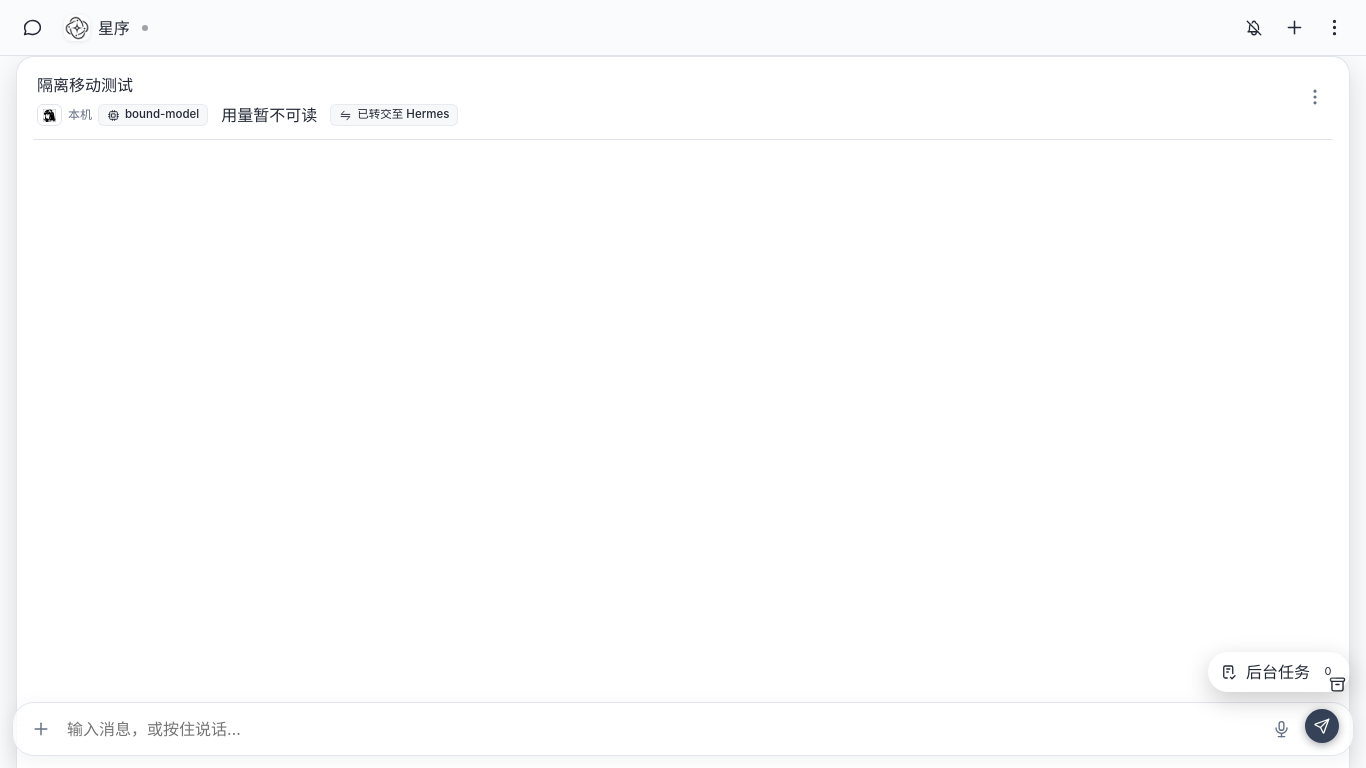
Test: independent mobile composer › distinguishes a handoff relationship in the mobile conversation header
Check: the text "bound-model" is shown, box [125,109,199,121]
Click the button "已转交至 Hermes".
click(394, 115)  # box [330,104,458,126]
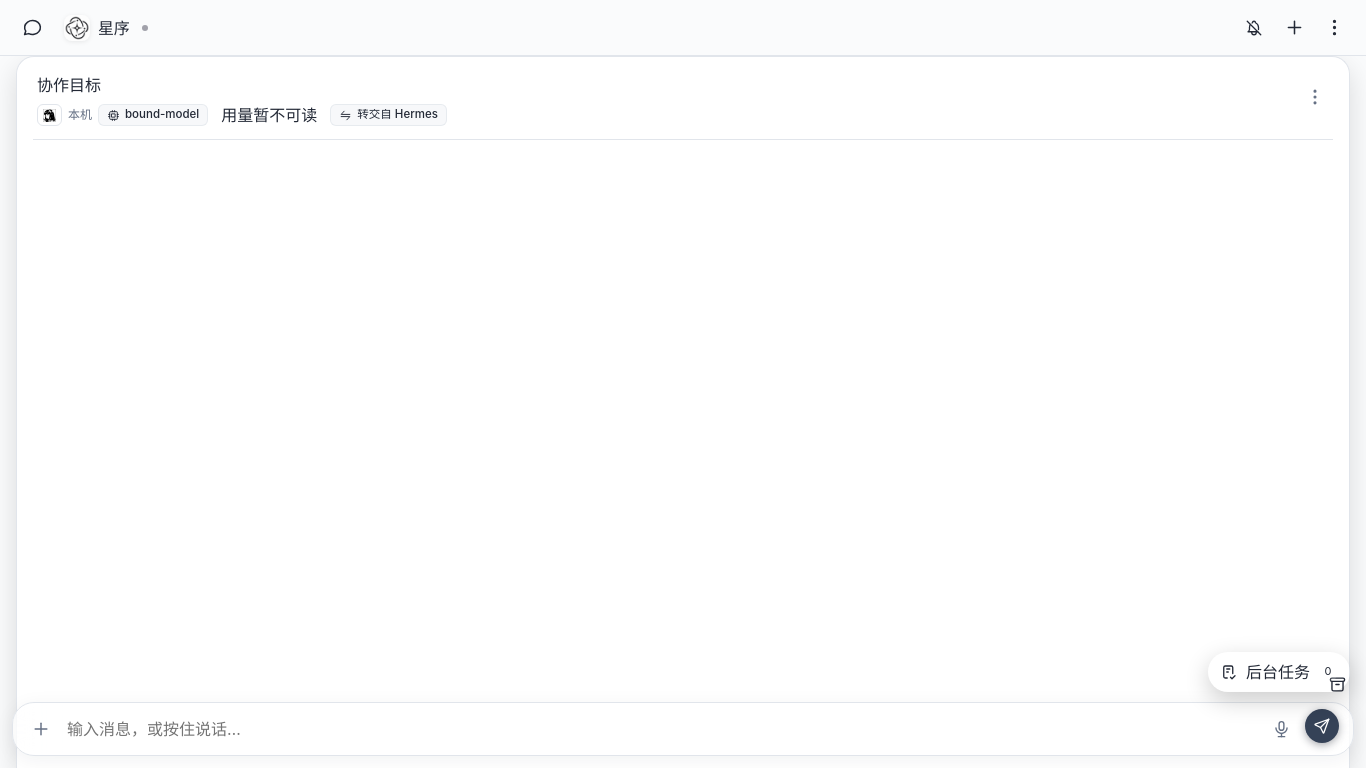
Check: the heading "协作目标" is shown, box [37,75,101,95]
Click the button "转交自 Hermes".
click(389, 115)  # box [330,104,447,126]
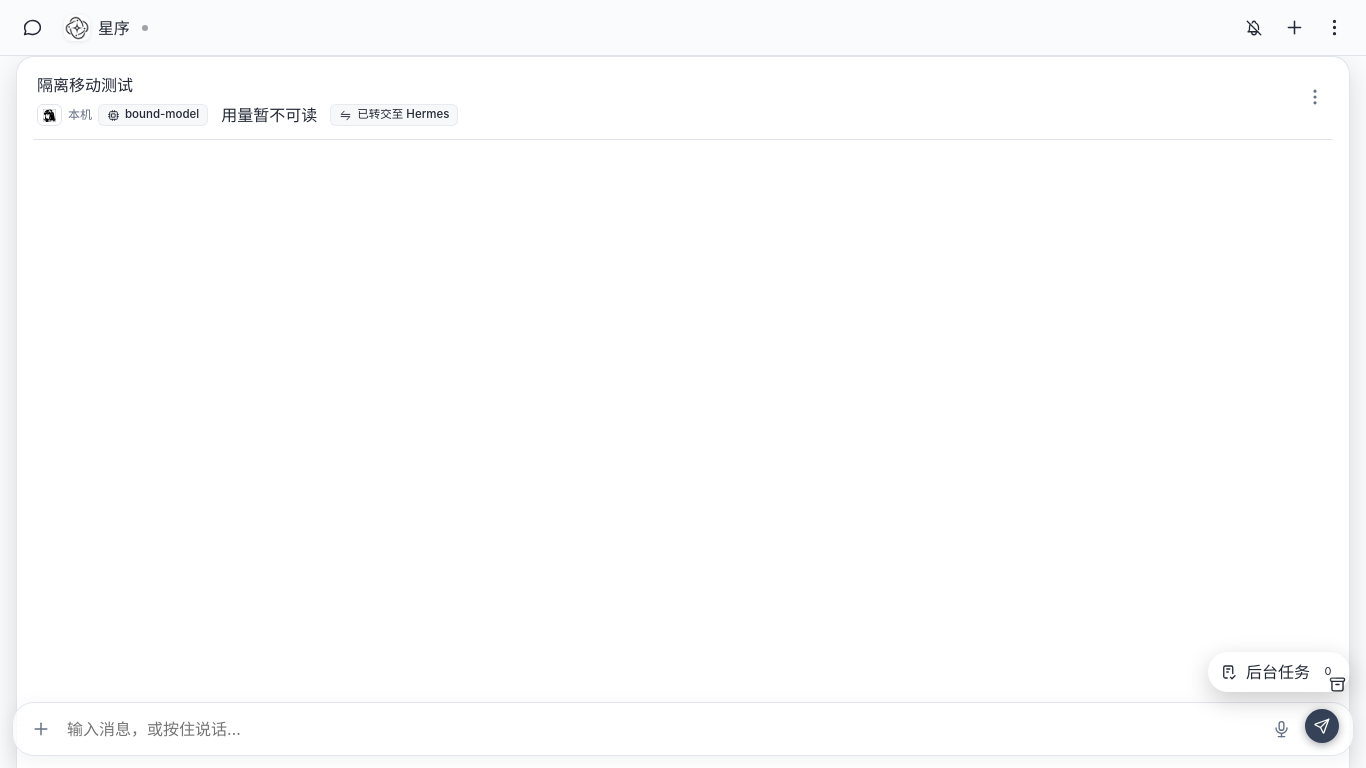
Check: the heading "隔离移动测试" is shown, box [37,75,133,95]
